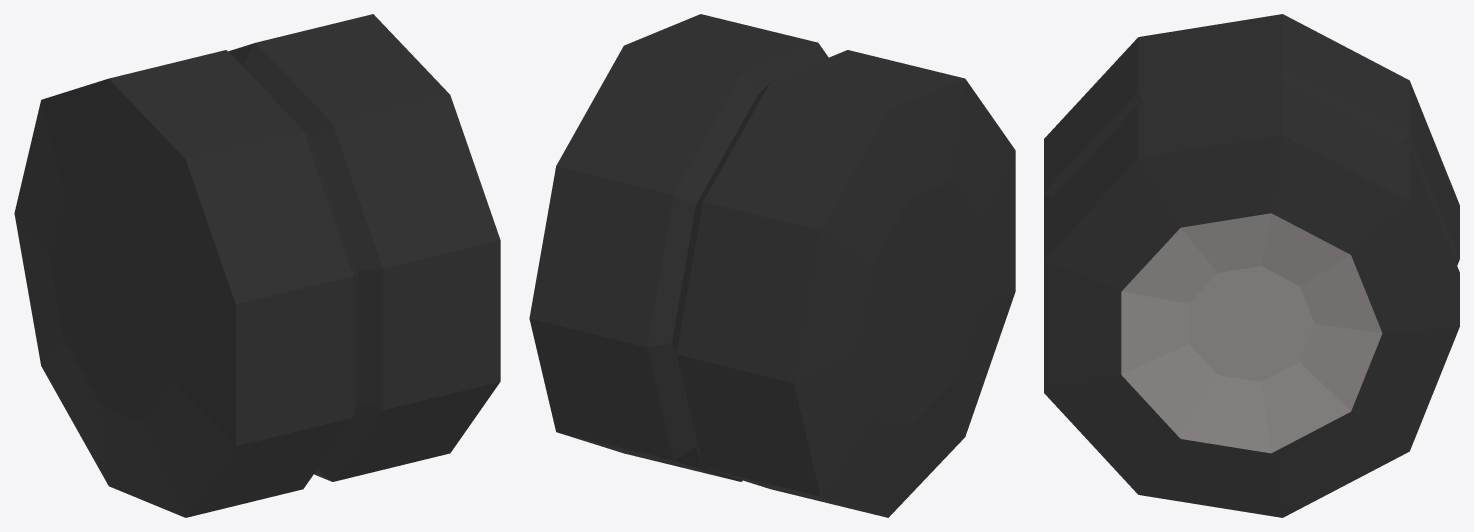
The model's file is car-firefighter-pickup-wheel_BL.glb.
3 views of the same model, side by side, from view 1: azimuth 30°, elevation 25°; view 2: azimuth 150°, elevation 25°; view 3: azimuth 270°, elevation 25° (orthographic). The views are drawn at different scales.
Parts seen in each view (by area): view 1: car-firefighter-pickup-wheel_BL; view 2: car-firefighter-pickup-wheel_BL; view 3: car-firefighter-pickup-wheel_BL.
Part boxes in pixels (bbox=[...]): car-firefighter-pickup-wheel_BL: bbox=[14, 14, 500, 517]; car-firefighter-pickup-wheel_BL: bbox=[529, 14, 1015, 517]; car-firefighter-pickup-wheel_BL: bbox=[1044, 14, 1459, 517].
Size of the model in its own units: 0.5872 by 0.7781 by 0.7662.
1 material, 1 textured.
